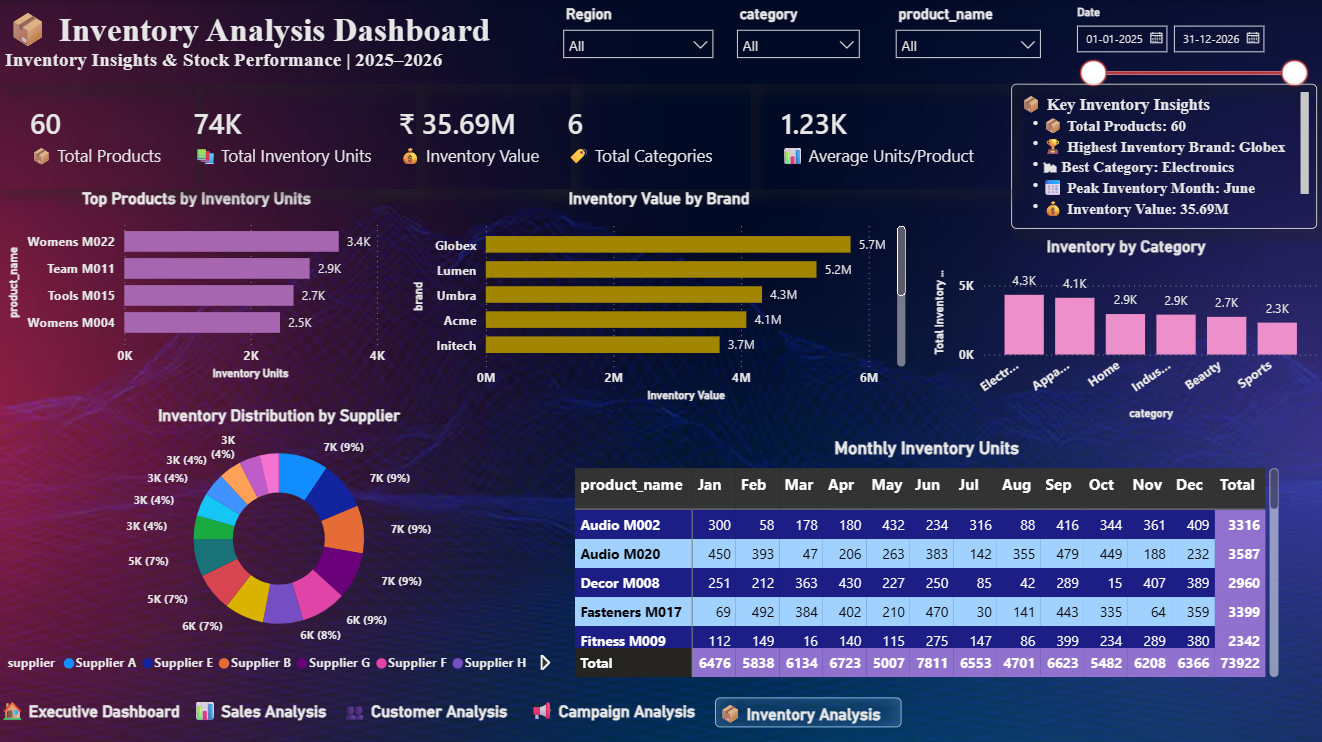

Layout of this report page (visuals, bound fields, positions):
{"tool":"powerbi","page":{"name":"Inventory Analysis","canvas":[1280,720],"ordinal":4},"visuals":[{"type":"textbox","box":[0,0,1280,80.8],"z":0},{"type":"cardVisual","fields":{"Data":["_measures.Total Products"]},"box":[0,78.2,188,104.3],"z":1000},{"type":"clusteredColumnChart","title":"Inventory by Category","fields":{"Y":["_measures.Total Inventory Units"],"Category":["dim_product.category"]},"box":[896.4,229.2,381.2,181],"z":2000},{"type":"barChart","title":"Top Products by Inventory Units","fields":{"Category":["dim_product.product_name"],"Y":["_measures.Total Inventory Units"]},"box":[2.7,182.5,374.6,189.4],"z":3000},{"type":"slicer","fields":{"Values":["dim_date.Date"]},"box":[1026.7,0,243.7,89.3],"z":4000},{"type":"slicer","fields":{"Values":["dim_geo.region"]},"box":[533.2,0,165.3,62.7],"z":5000},{"type":"slicer","fields":{"Values":["dim_product.product_name"]},"box":[854.2,0,160.5,62.7],"z":6000},{"type":"cardVisual","fields":{"Data":["_measures.Total Inventory Units"]},"box":[157.8,78.2,242.9,104.3],"z":7000},{"type":"cardVisual","fields":{"Data":["_measures.Inventory Value"]},"box":[355.4,78.2,194.9,104.3],"z":8000},{"type":"cardVisual","fields":{"Data":["_measures.Total Categories"]},"box":[518.7,78.2,205.8,104.3],"z":9000},{"type":"donutChart","title":"Inventory Distribution by Supplier","fields":{"Category":["dim_product.supplier"],"Y":["_measures.Total Inventory Units"]},"box":[2.7,392.5,533.8,266.2],"z":10000},{"type":"textbox","box":[975.6,81,295,140],"z":11000},{"type":"actionButton","title":"📊 Sales Analysis","box":[186.3,673.3,153.7,28.8],"z":12000},{"type":"actionButton","title":"👥 Customer Analysis","box":[330.3,673.3,171.5,28.8],"z":13000},{"type":"actionButton","title":"📢 Campaign Analysis","box":[511,673.3,172.9,30.2],"z":14000},{"type":"actionButton","title":"📦 Inventory Analysis","box":[690.3,673.3,179.8,28.8],"z":15000},{"type":"actionButton","title":"🏠 Executive Dashboard","box":[0,673.3,190.7,28.8],"z":16000},{"type":"barChart","title":"Inventory Value by Brand","fields":{"Category":["dim_product.brand"],"Y":["_measures.Inventory Value"]},"box":[393.8,182.5,485.8,209.9],"z":17000},{"type":"pivotTable","title":"Monthly Inventory Units","fields":{"Columns":["dim_date.Month Name"],"Rows":["dim_product.product_name"],"Values":["_measures.Total Inventory Units"]},"box":[550.3,422.6,688.9,236],"z":18000},{"type":"cardVisual","fields":{"Data":["_measures.Average Units/Product"]},"box":[724.5,78.2,251.1,104.3],"z":19000},{"type":"slicer","fields":{"Values":["dim_product.category"]},"box":[701.2,0,138.7,62.7],"z":20000}]}

Visuals, with their boxes in screenshot pixels (x1, y1, x2, y2), scaled from the page's 1280x720 canvas onto the 1322x742 screenshot:
textbox: Rect(0, 0, 1321, 83)
cardVisual - _measures.Total Products: Rect(0, 81, 194, 188)
"Inventory by Category" clusteredColumnChart: Rect(926, 236, 1320, 423)
"Top Products by Inventory Units" barChart: Rect(3, 188, 390, 383)
slicer - dim_date.Date: Rect(1060, 0, 1312, 92)
slicer - dim_geo.region: Rect(551, 0, 721, 65)
slicer - dim_product.product_name: Rect(882, 0, 1048, 65)
cardVisual - _measures.Total Inventory Units: Rect(163, 81, 414, 188)
cardVisual - _measures.Inventory Value: Rect(367, 81, 568, 188)
cardVisual - _measures.Total Categories: Rect(536, 81, 748, 188)
"Inventory Distribution by Supplier" donutChart: Rect(3, 404, 554, 679)
textbox: Rect(1008, 83, 1312, 228)
"📊 Sales Analysis" actionButton: Rect(192, 694, 351, 724)
"👥 Customer Analysis" actionButton: Rect(341, 694, 518, 724)
"📢 Campaign Analysis" actionButton: Rect(528, 694, 706, 725)
"📦 Inventory Analysis" actionButton: Rect(713, 694, 899, 724)
"🏠 Executive Dashboard" actionButton: Rect(0, 694, 197, 724)
"Inventory Value by Brand" barChart: Rect(407, 188, 908, 404)
"Monthly Inventory Units" pivotTable: Rect(568, 436, 1280, 679)
cardVisual - _measures.Average Units/Product: Rect(748, 81, 1008, 188)
slicer - dim_product.category: Rect(724, 0, 867, 65)
